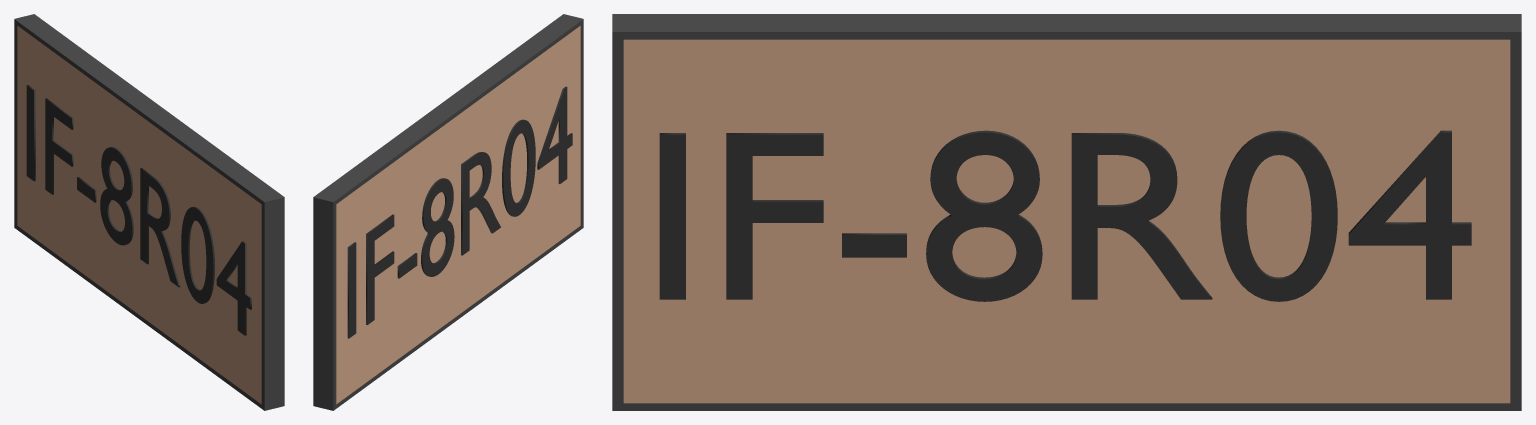
3 views of the same model, side by side, from view 1: azimuth 30°, elevation 25°; view 2: azimuth 150°, elevation 25°; view 3: azimuth 270°, elevation 25° (orthographic). The views are drawn at different scales.
Visible parts, largest first — view 1: Cube, Text.001; view 2: Cube, Text.001; view 3: Cube, Text.
Boxes of the visible parts, <box> form: Cube: <box>14,14,284,410</box>; Text.001: <box>26,85,251,335</box>; Cube: <box>313,14,583,410</box>; Text.001: <box>347,86,572,338</box>; Cube: <box>612,14,1521,410</box>; Text: <box>659,130,1471,301</box>.
Bounding box in the file's own units: 12.6 × 105 × 229.
